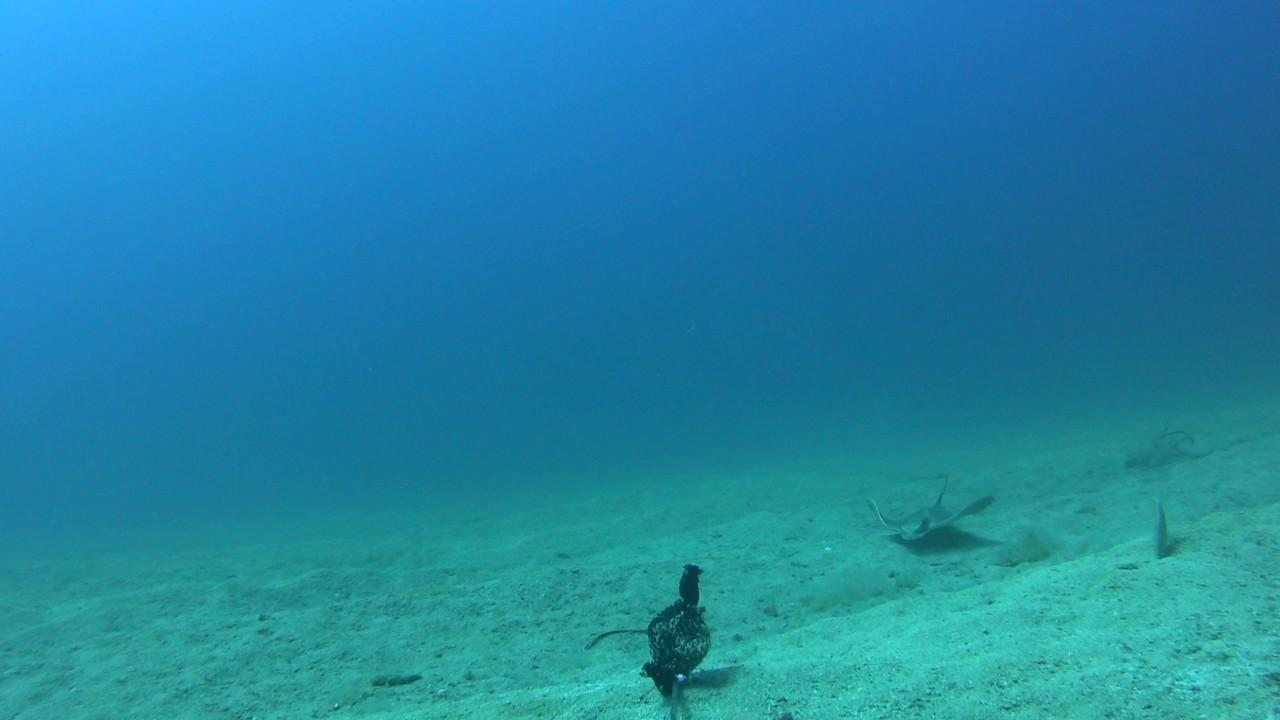myliobatis: (861, 471, 996, 544)
